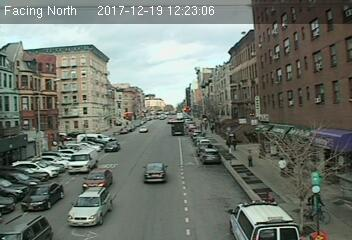car: (68, 186, 112, 228), (16, 183, 66, 213), (81, 169, 115, 190), (142, 161, 166, 183), (202, 147, 222, 165)
pedestrian: (247, 149, 253, 169)
police: (225, 195, 302, 240)
truck: (67, 149, 96, 173)
ups: (170, 120, 185, 136)
